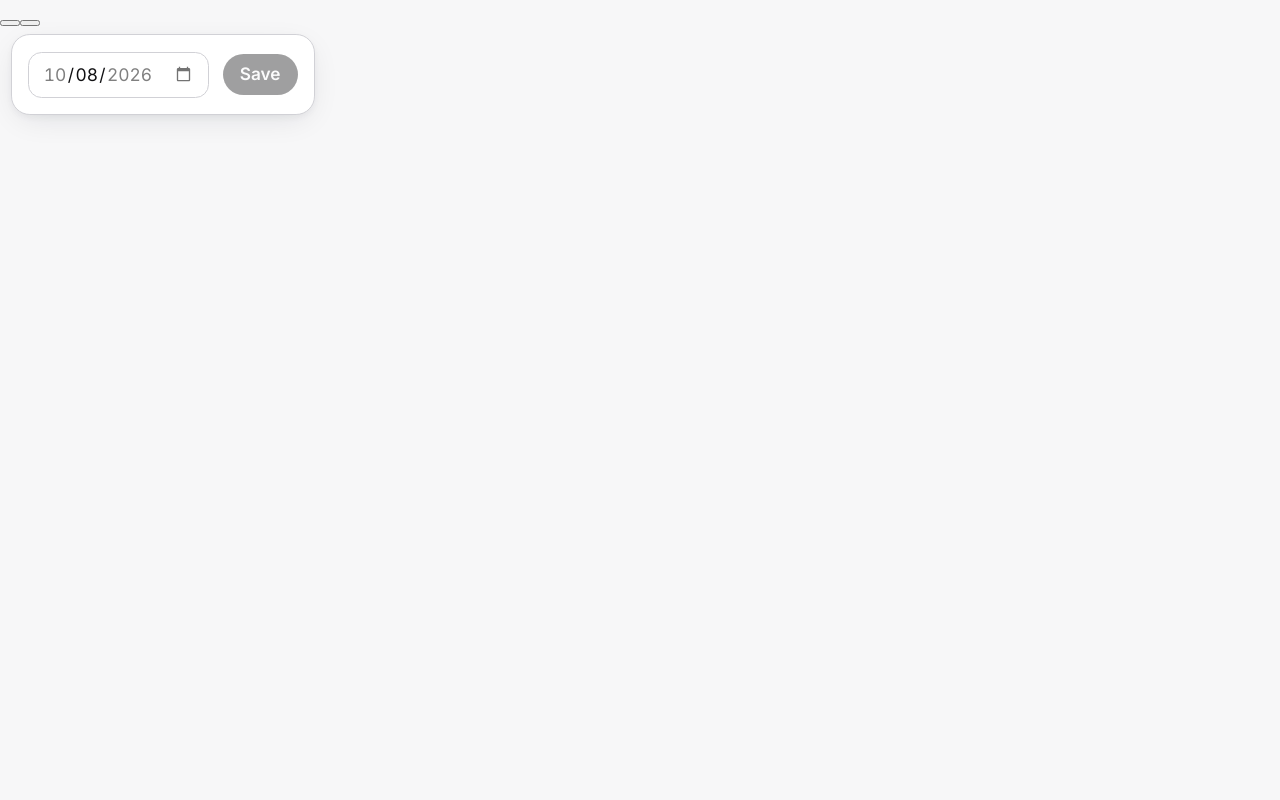
it: StepDateBox › marks a date outside the bounds and keeps Save off
Type "2026-10-25" into the date field named "Interview date".
click(119, 75); type("2026-10-25")  # box x1=28 y1=52 x2=209 y2=98
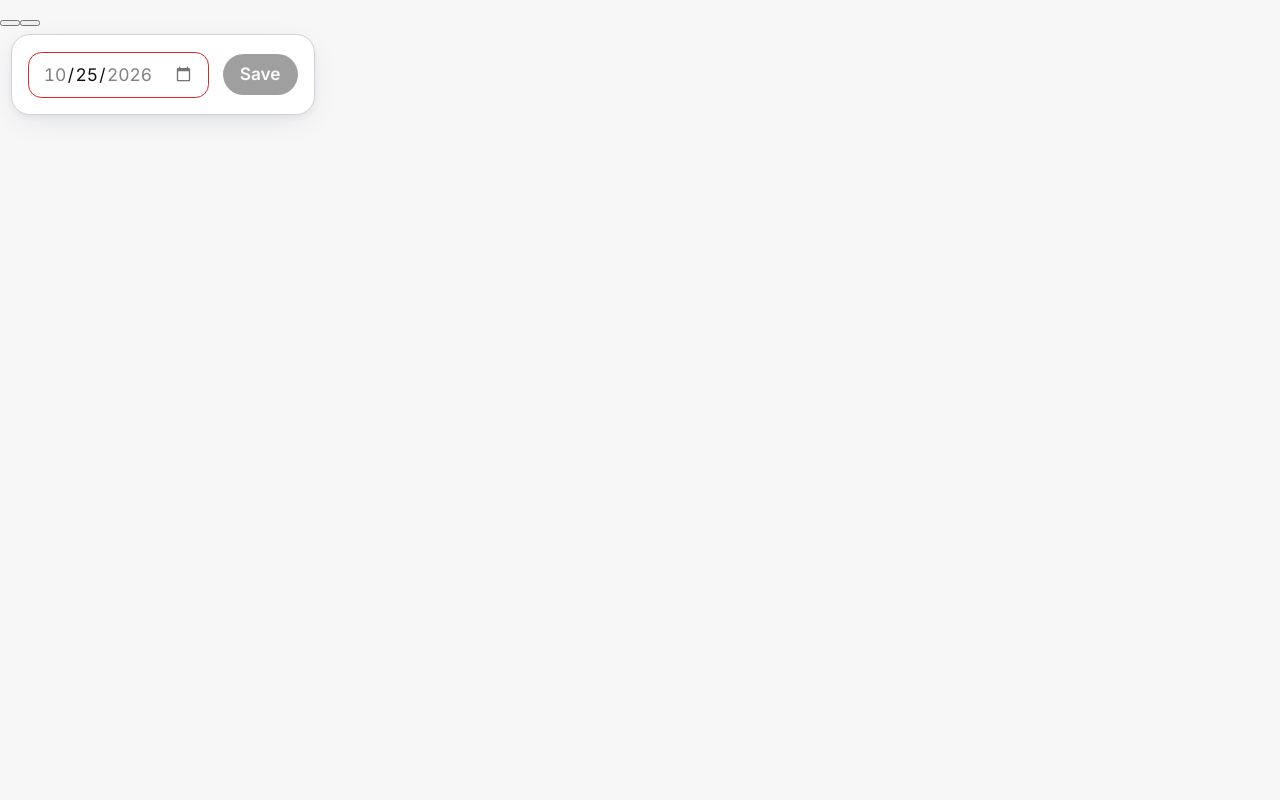
Check: the button "Save" is disabled, box x1=223 y1=54 x2=298 y2=95
Check: the date field named "Interview date" is marked as invalid, box x1=28 y1=52 x2=209 y2=98
